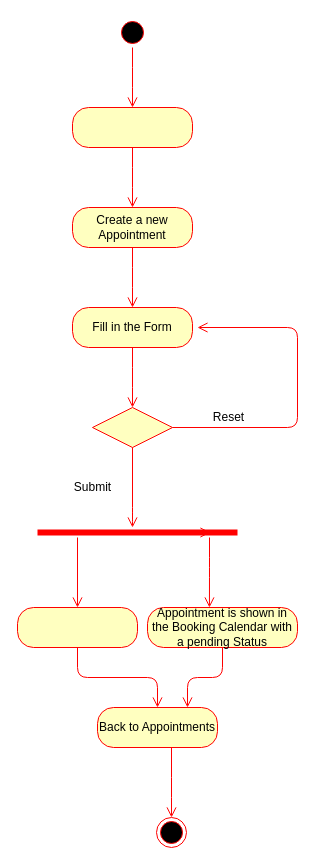
This 325x865 diagram has some shape labels left out. The shapes that lost their labels are listed below. From the top down, each one's centre as x and y in pixels, then its label:
the point at 132,127: Go to Dashboard/ Appointments
the point at 77,627: Appointment is added to the Database
